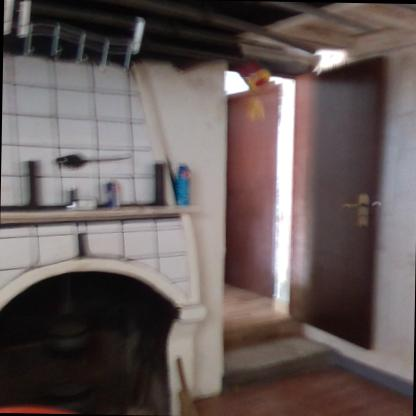open: (200, 46, 394, 383)
